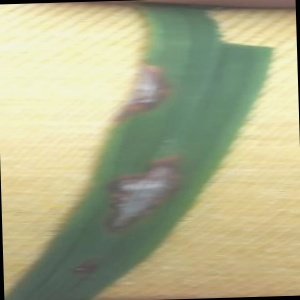Brown_Spot: (98, 143, 201, 235), (112, 47, 183, 129)
